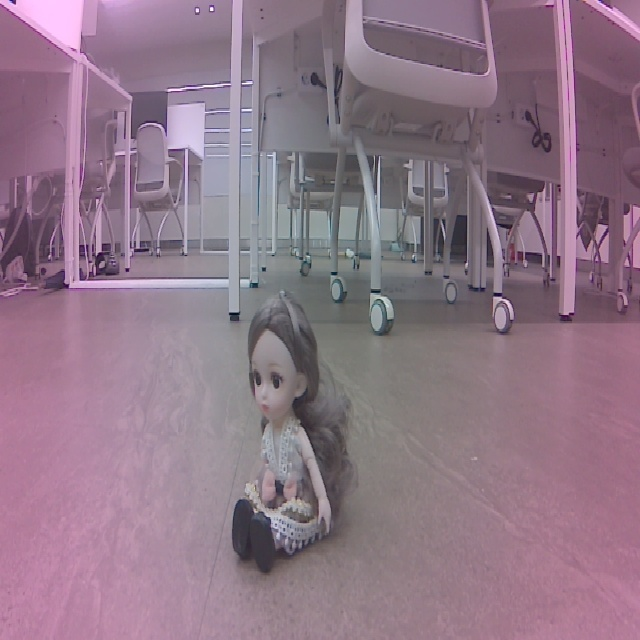장애물: (279, 270, 437, 545)
